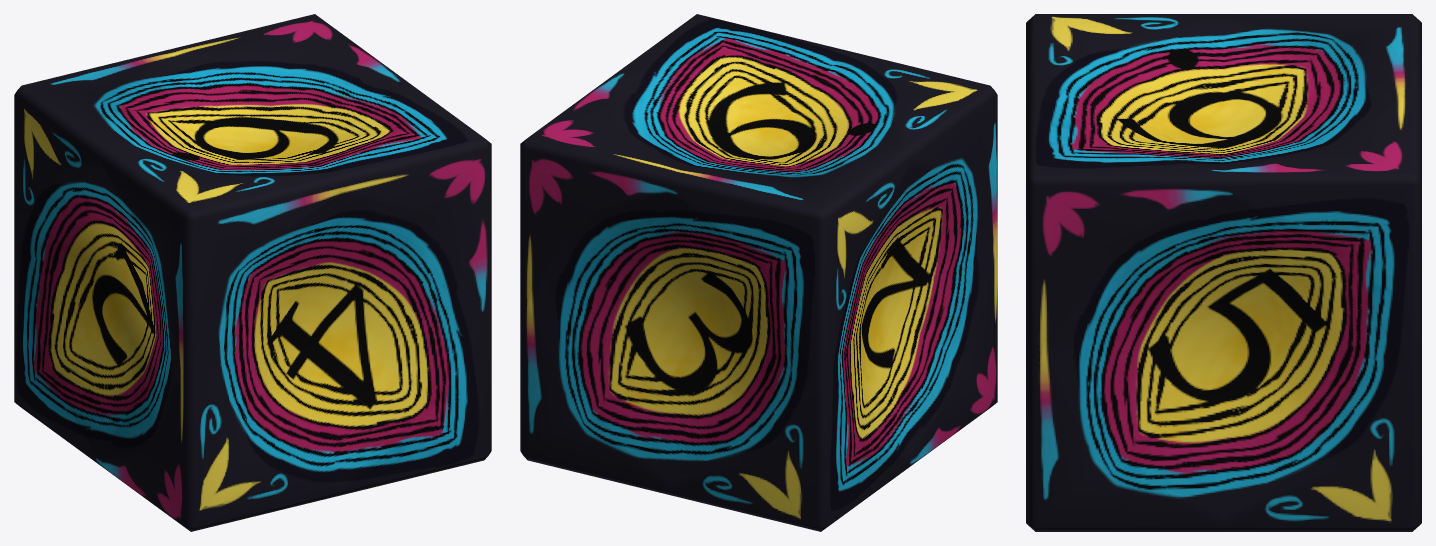
The picture shows the model from 3 angles, left to right: view 1: azimuth 30°, elevation 25°; view 2: azimuth 150°, elevation 25°; view 3: azimuth 270°, elevation 25°; orthographic projection. The views are drawn at different scales.
Visible parts, largest first — view 1: Cube; view 2: Cube; view 3: Cube.
Boxes of the visible parts, x1,y1,x2,y2 form: Cube: [14, 14, 491, 531]; Cube: [520, 14, 997, 531]; Cube: [1026, 14, 1421, 531].
Size of the model in its own units: 105 by 105 by 105.
1 material, 1 textured.
